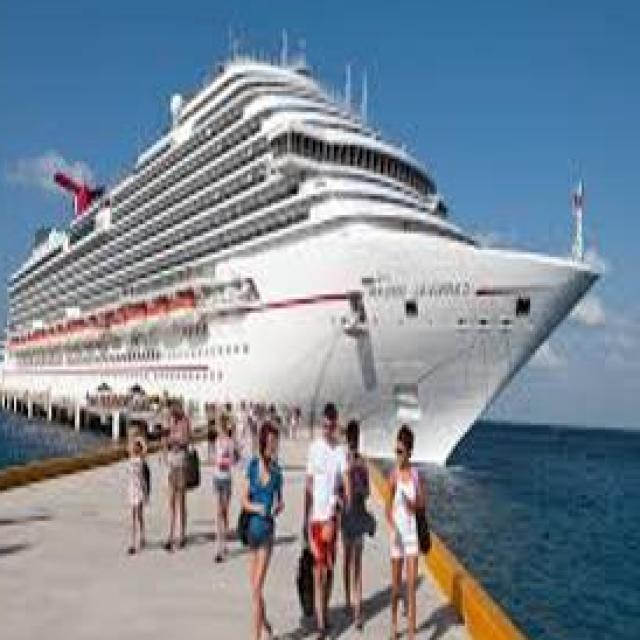passenger ship: (0, 25, 601, 450)
